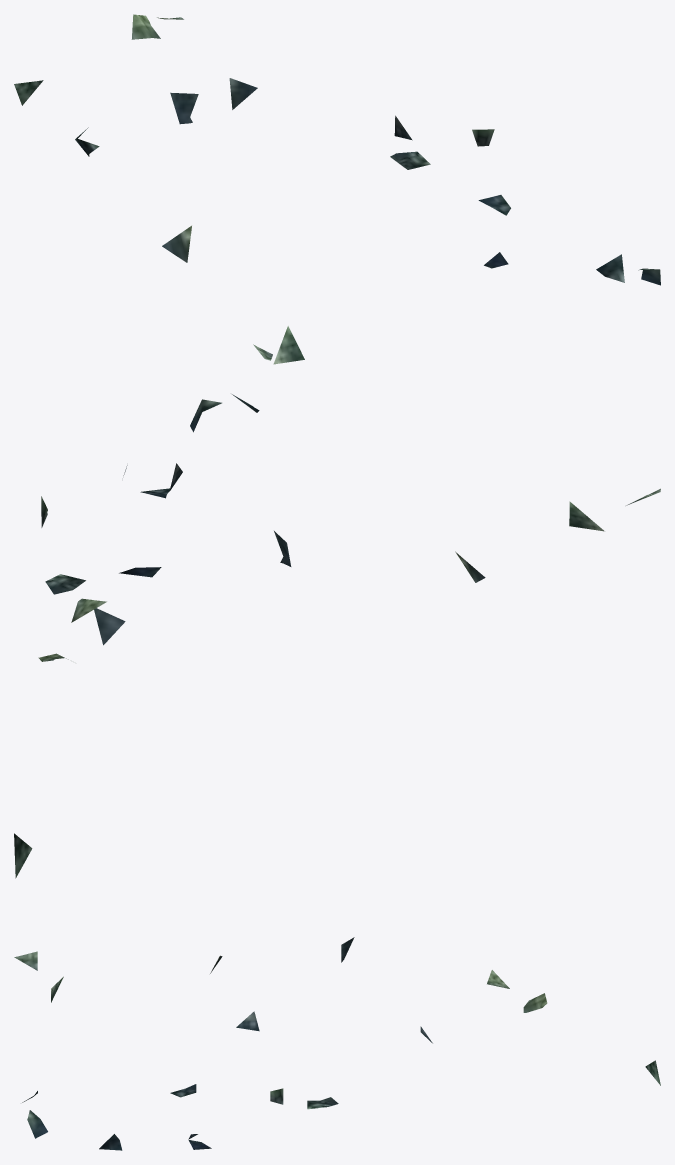
The picture shows the model from 3 angles, top to bottom: view 1: azimuth 30°, elevation 25°; view 2: azimuth 150°, elevation 25°; view 3: azimuth 270°, elevation 25°; orthographic projection. The views are drawn at different scales.
Parts seen in each view (by area): view 1: 30436272704370436507_1; view 2: 30436272704370436507_1; view 3: 30436272704370436507_1.
Part boxes in pixels (bbox=[...]): 30436272704370436507_1: bbox=[14, 14, 660, 364]; 30436272704370436507_1: bbox=[14, 394, 660, 878]; 30436272704370436507_1: bbox=[14, 937, 660, 1150].
Size of the model in its own units: 22.4 by 8.47 by 37.8.
Materials: 1 (1 with a texture image).
